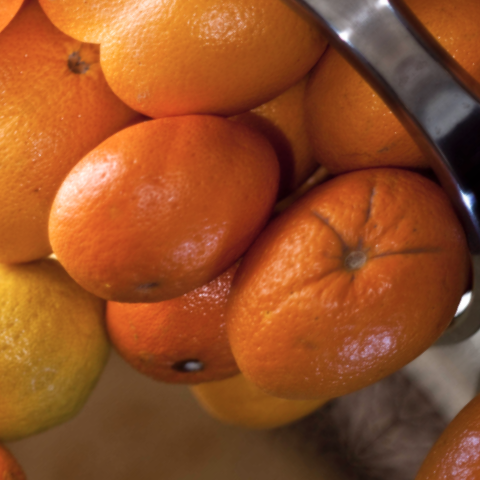orange: (0, 48, 334, 395), (171, 107, 480, 465)
